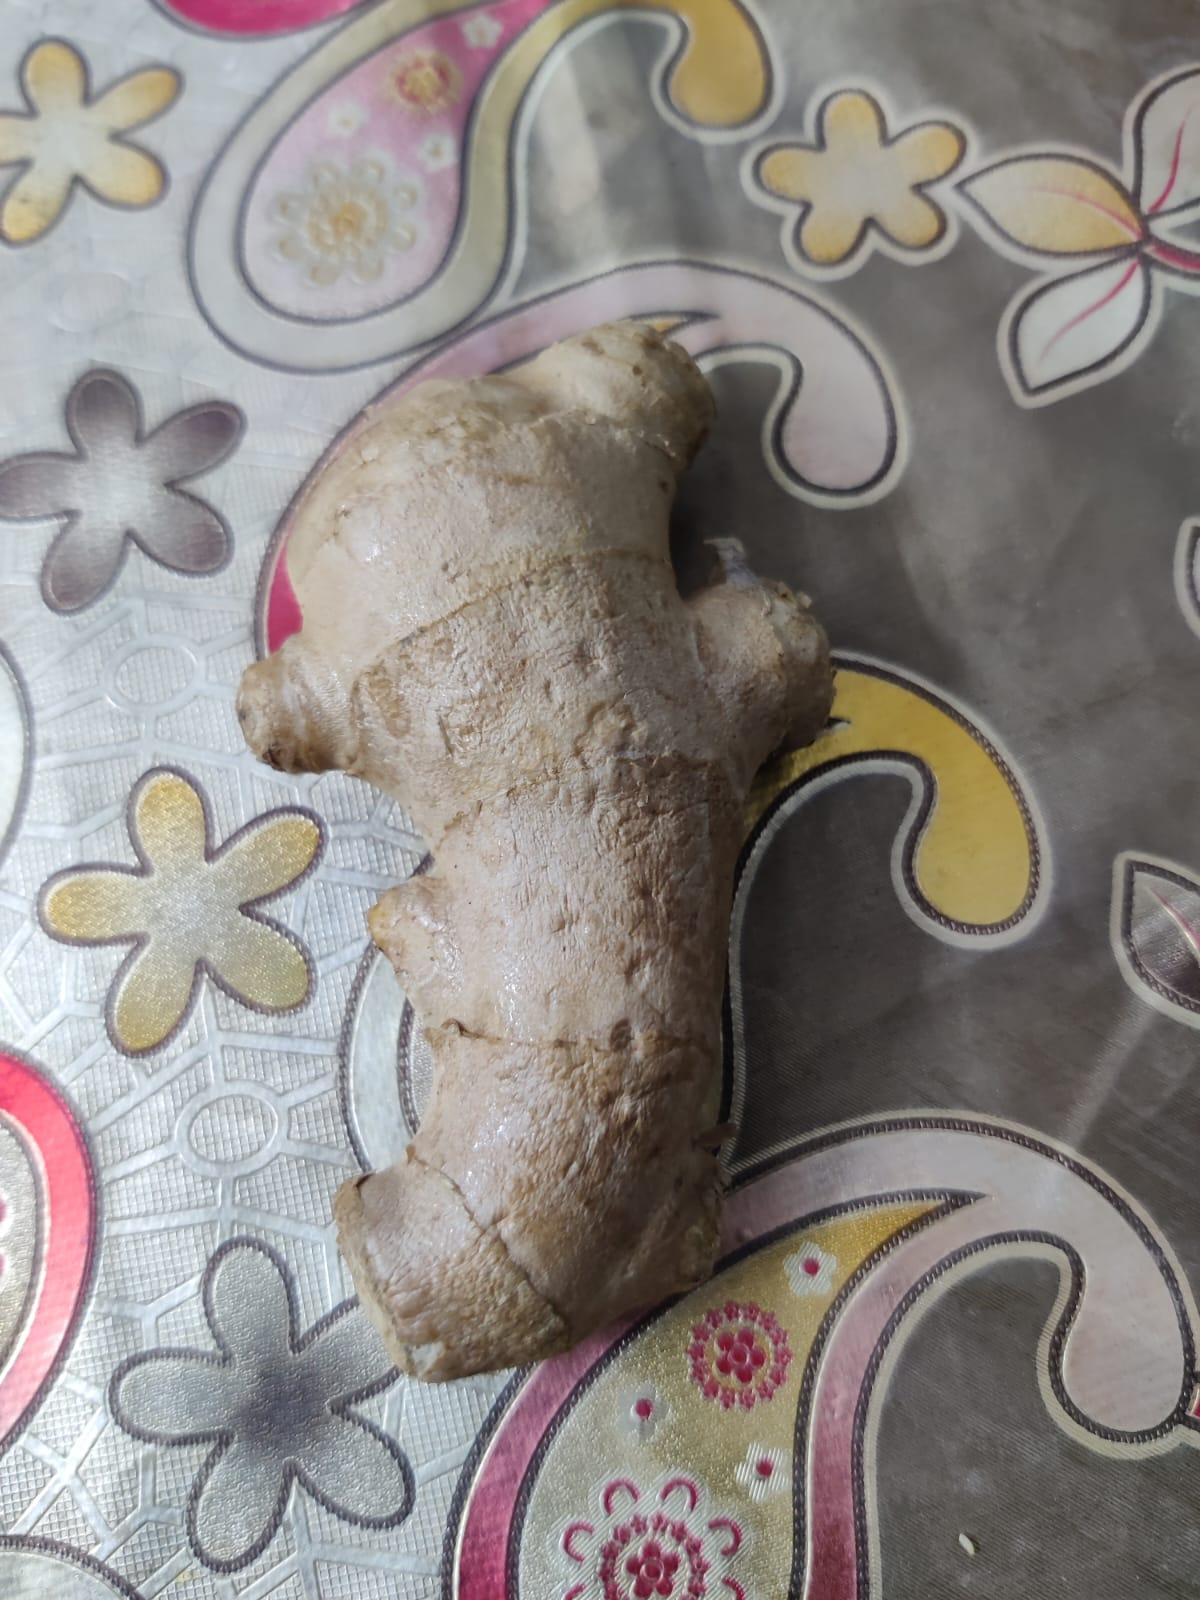non-mango: (229, 326, 850, 1411)
